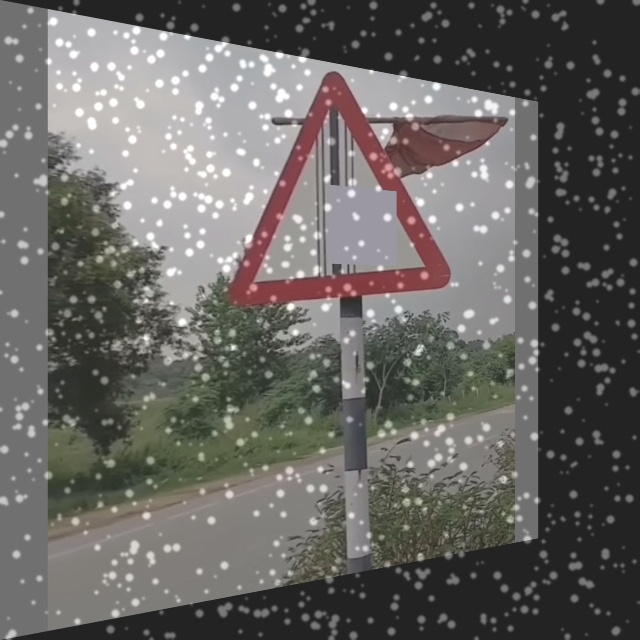Gap_in_Median: (232, 62, 449, 300)
